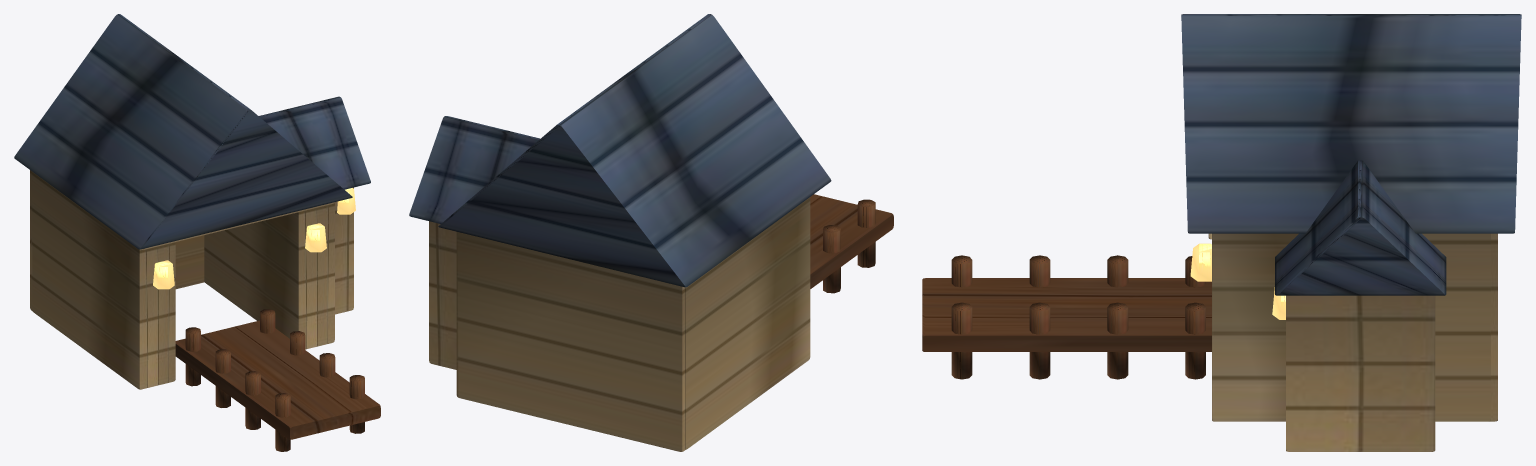
File: env_boathouse.glb
3 views of the same model, side by side, from view 1: azimuth 30°, elevation 25°; view 2: azimuth 150°, elevation 25°; view 3: azimuth 270°, elevation 25° (orthographic). The views are drawn at different scales.
Visible parts, largest first — view 1: BH_MainRoof, BH_Wall_-0.92, BH_Wall_0.92, BH_PierDeck, BH_SideRoof, BH_SideBay, BH_BackArch, BH_Pile_-0.58_-2.65, BH_Pile_-0.58_-0.85, BH_Pile_-0.58_-2.05, BH_Pile_-0.58_-1.45, BH_Lantern_0.88_-0.78 (+6 smaller); view 2: BH_MainRoof, BH_BackArch, BH_Wall_-0.92, BH_SideRoof, BH_SideBay, BH_PierDeck, BH_Pile_-0.58_-2.65, BH_Pile_-0.58_-2.05; view 3: BH_MainRoof, BH_SideBay, BH_Wall_0.92, BH_PierDeck, BH_SideRoof, BH_BackArch, BH_Pile_0.28_-1.45, BH_Pile_0.28_-2.05, BH_Pile_0.28_-2.65, BH_Pile_0.28_-0.85, BH_Lantern_0.88_-0.78, BH_Pile_-0.58_-2.65 (+2 smaller).
Part boxes in pixels (x1,y1,x2,y2): BH_MainRoof: (14, 14, 352, 249); BH_Wall_-0.92: (32, 172, 175, 389); BH_Wall_0.92: (204, 203, 334, 349); BH_PierDeck: (175, 320, 380, 439); BH_SideRoof: (259, 96, 370, 189); BH_SideBay: (335, 187, 353, 314); BH_BackArch: (30, 170, 204, 311); BH_Pile_-0.58_-2.65: (275, 393, 290, 451); BH_Pile_-0.58_-0.85: (185, 327, 200, 386); BH_Pile_-0.58_-2.05: (245, 371, 260, 429); BH_Pile_-0.58_-1.45: (215, 349, 230, 407); BH_Lantern_0.88_-0.78: (305, 223, 326, 252); BH_MainRoof: (438, 14, 831, 287); BH_BackArch: (456, 232, 685, 451); BH_Wall_-0.92: (685, 197, 810, 449); BH_SideRoof: (409, 116, 539, 223); BH_SideBay: (429, 221, 456, 369); BH_PierDeck: (810, 194, 893, 288); BH_Pile_-0.58_-2.65: (857, 199, 875, 267); BH_Pile_-0.58_-2.05: (823, 225, 840, 293); BH_MainRoof: (1181, 14, 1521, 233); BH_SideBay: (1286, 295, 1435, 451); BH_Wall_0.92: (1212, 233, 1490, 421); BH_PierDeck: (922, 278, 1211, 351); BH_SideRoof: (1275, 160, 1446, 295); BH_BackArch: (1489, 233, 1497, 421); BH_Pile_0.28_-1.45: (1107, 302, 1128, 379); BH_Pile_0.28_-2.05: (1029, 302, 1050, 379); BH_Pile_0.28_-2.65: (951, 302, 972, 379); BH_Pile_0.28_-0.85: (1185, 302, 1205, 379); BH_Lantern_0.88_-0.78: (1190, 243, 1211, 281); BH_Pile_-0.58_-2.65: (951, 255, 972, 287).
Size of the model in its own units: 3.1 by 2.93 by 4.62.
Materials: 4 (4 with a texture image).
